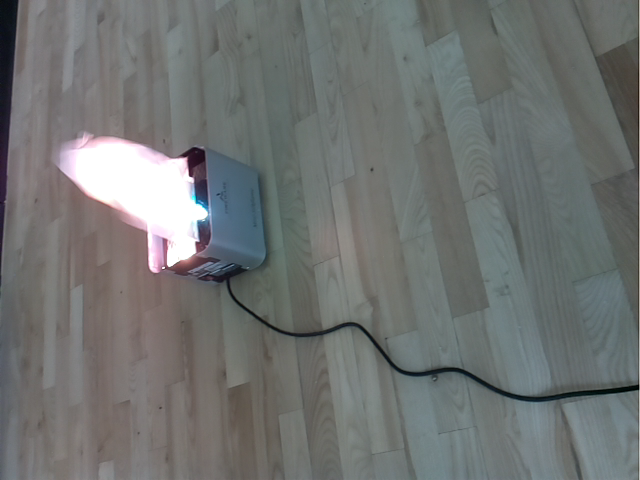fire: (55, 129, 200, 255)
